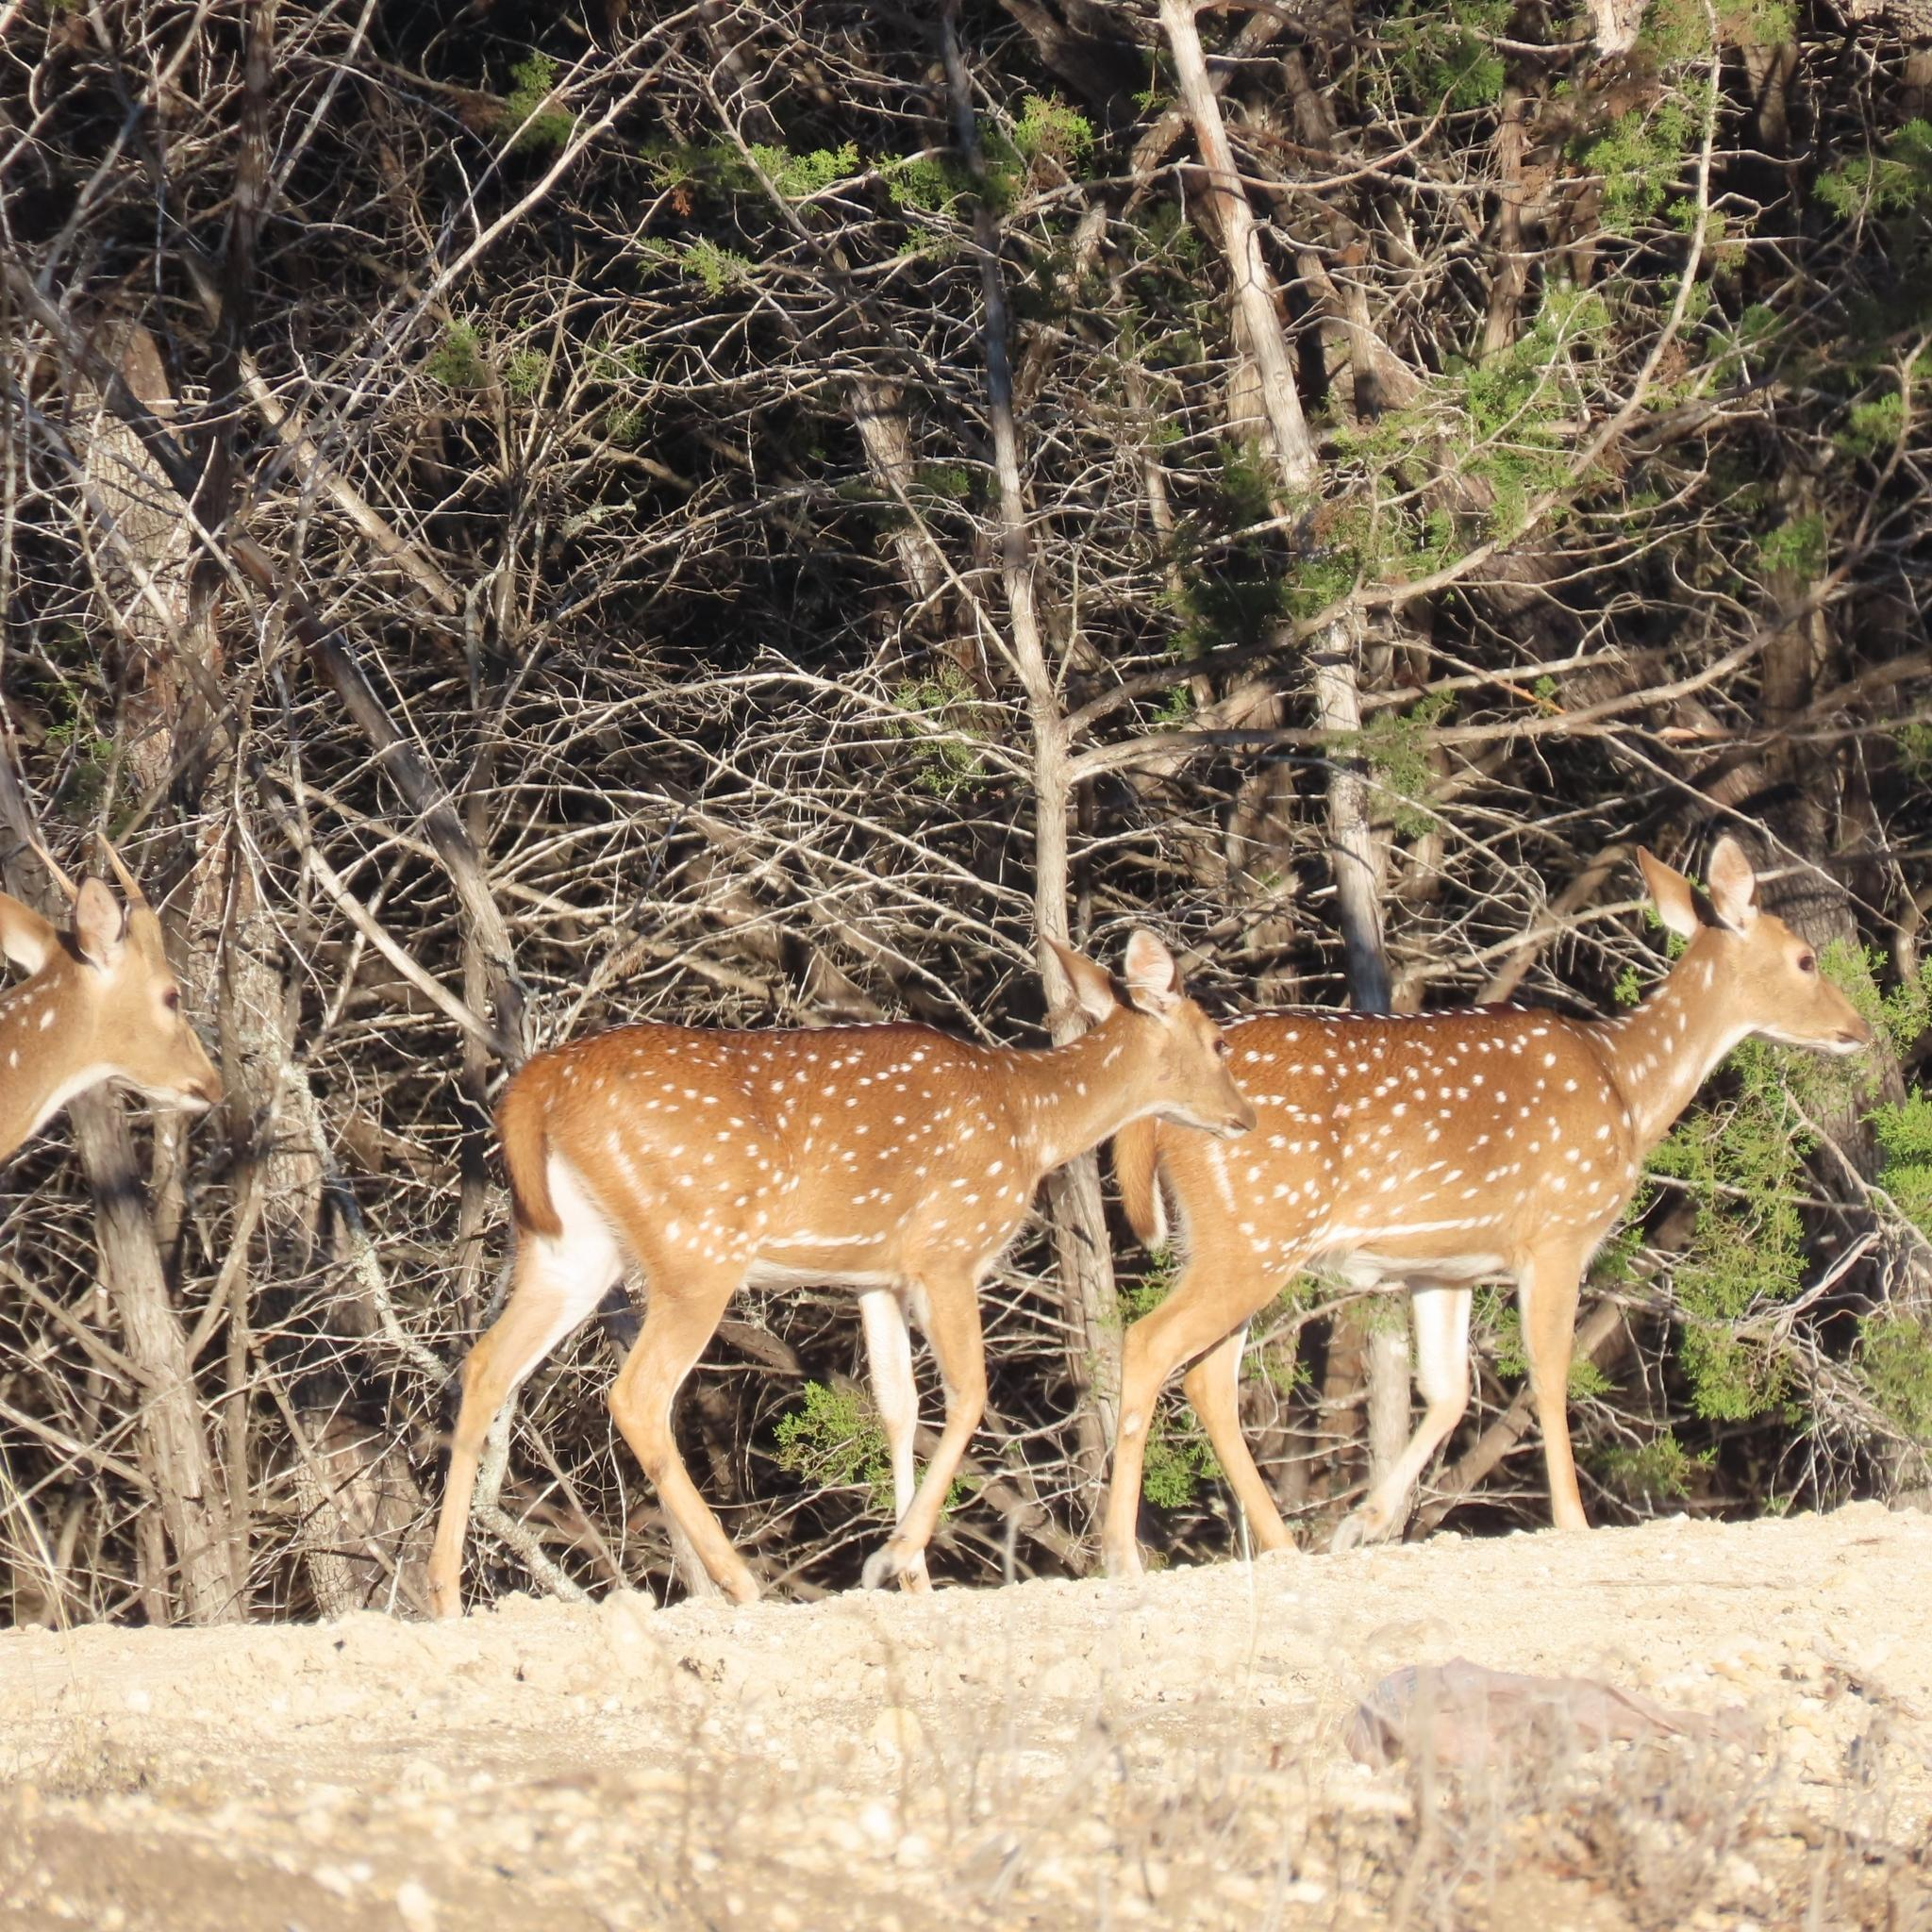Deer: (430, 929, 1254, 1614), (1104, 842, 1868, 1571), (0, 879, 221, 1162)
